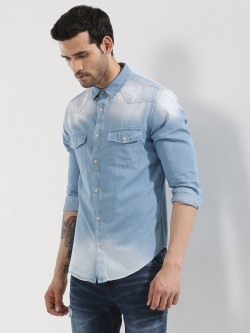Shirt: (56, 85, 215, 287)
